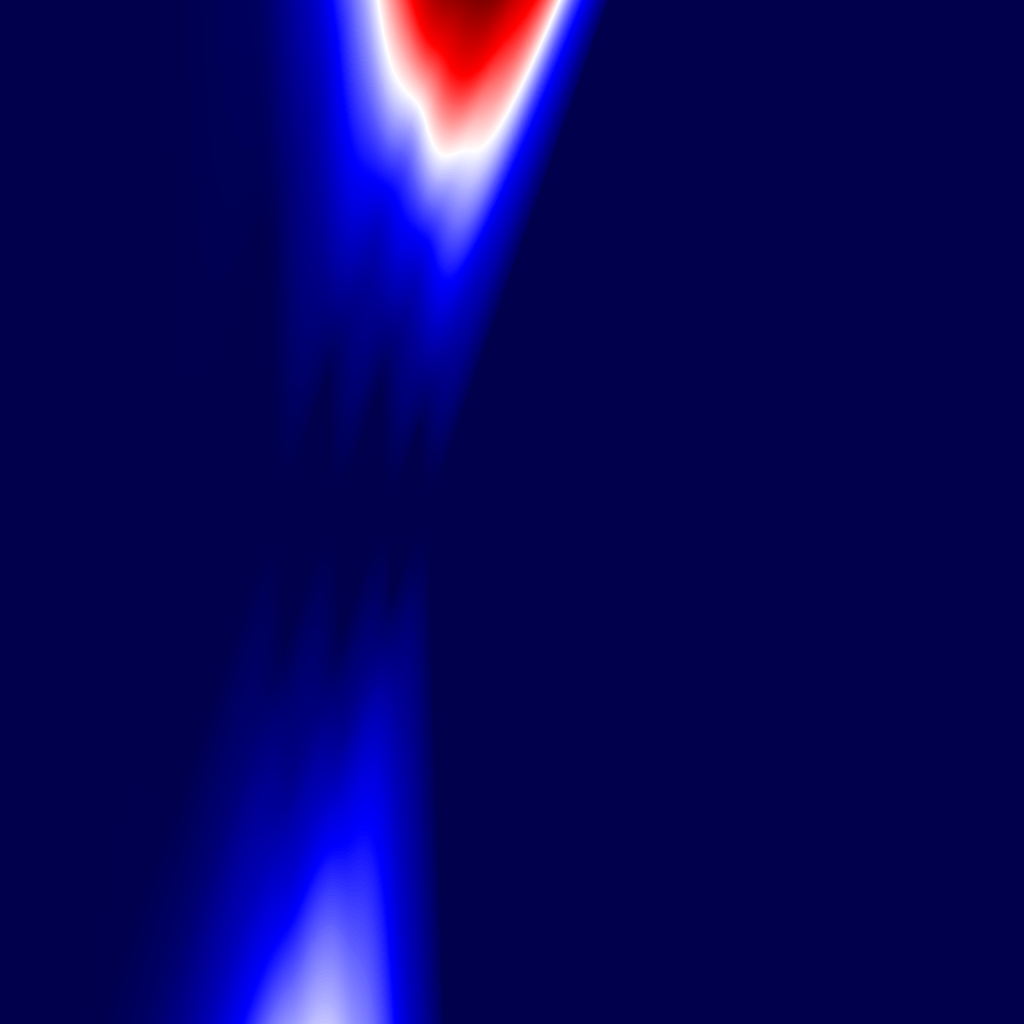diamond: (172, 234, 280, 790), (280, 365, 337, 659), (338, 378, 390, 646), (391, 413, 429, 611)
